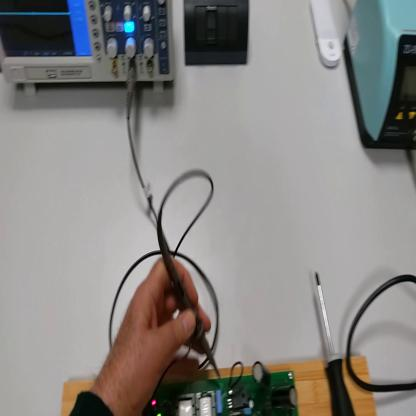hand: (92, 255, 213, 415)
high voltage board: (143, 362, 296, 415)
oscilloscope: (2, 1, 176, 100)
oscilloscope probe tip: (159, 217, 219, 384)
screwdriver-: (317, 275, 355, 415)
welder station: (344, 2, 416, 153)
working area: (65, 356, 377, 415)
